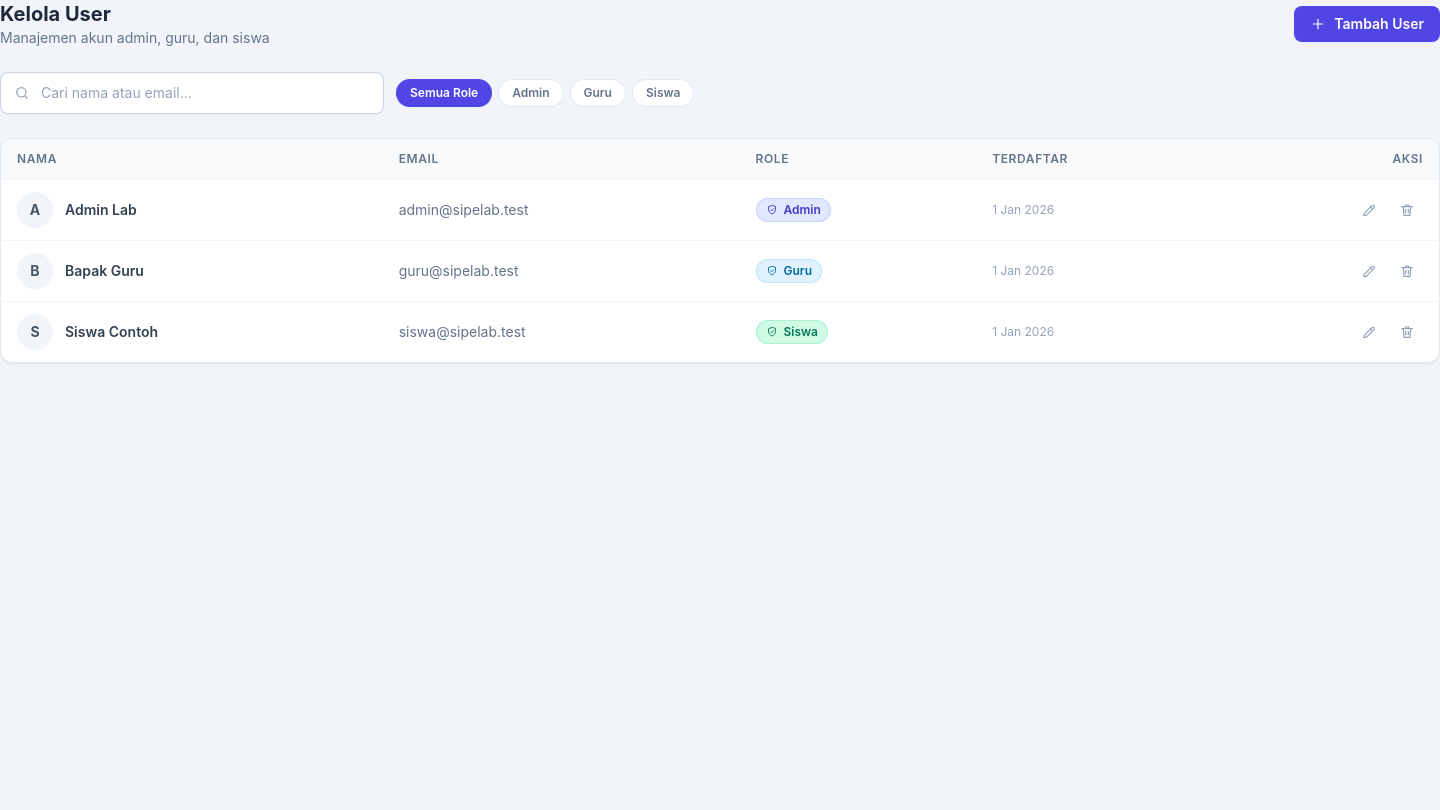
Scenario: Users — halaman manajemen user untuk admin › menutup modal dan menampilkan toast saat tambah user berhasil
Click the button "Tambah User".
click(1367, 24)  # box [1294,6,1439,42]
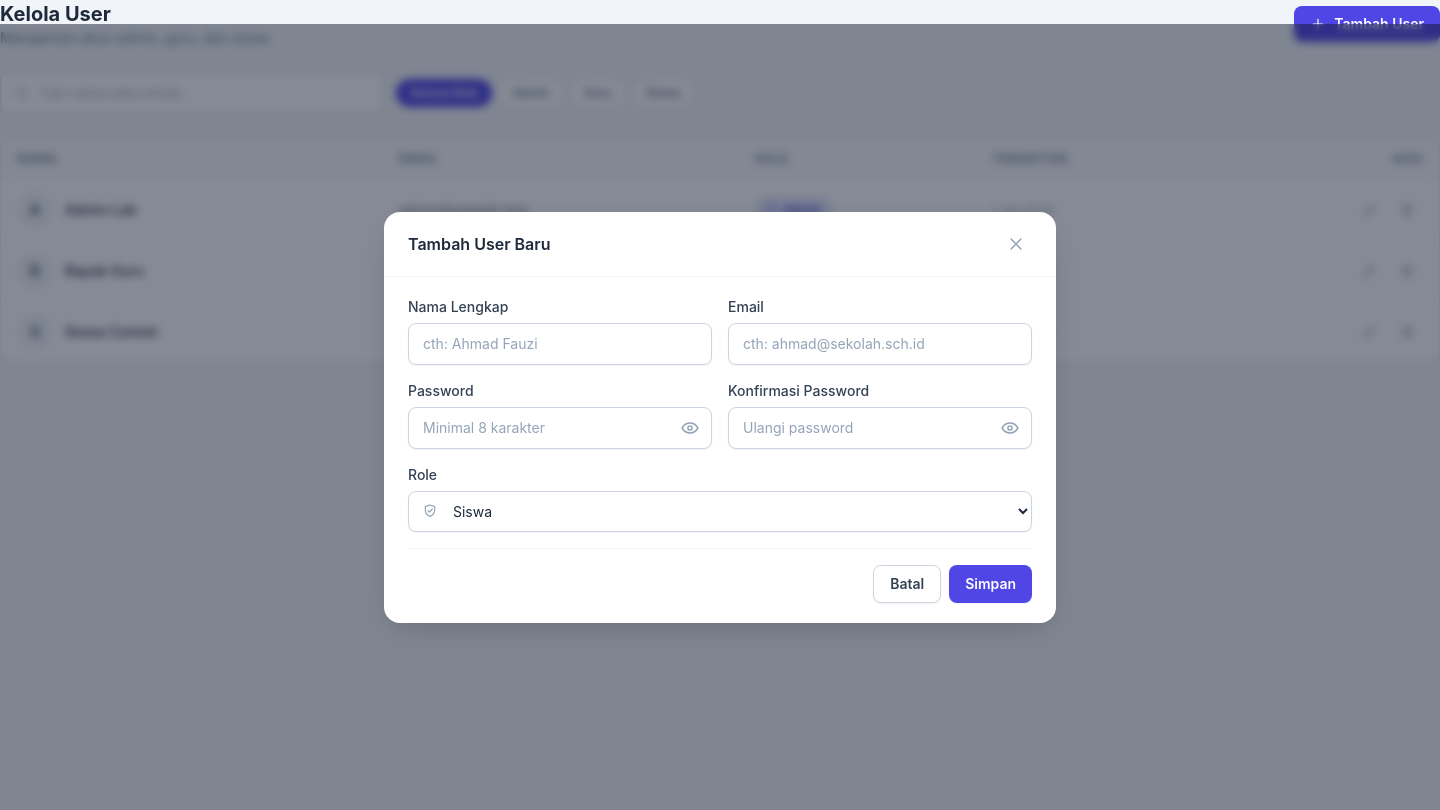
Type "User Baru" into the field labelled "Nama Lengkap".
click(560, 344); type("User Baru")  # box [408,322,712,364]
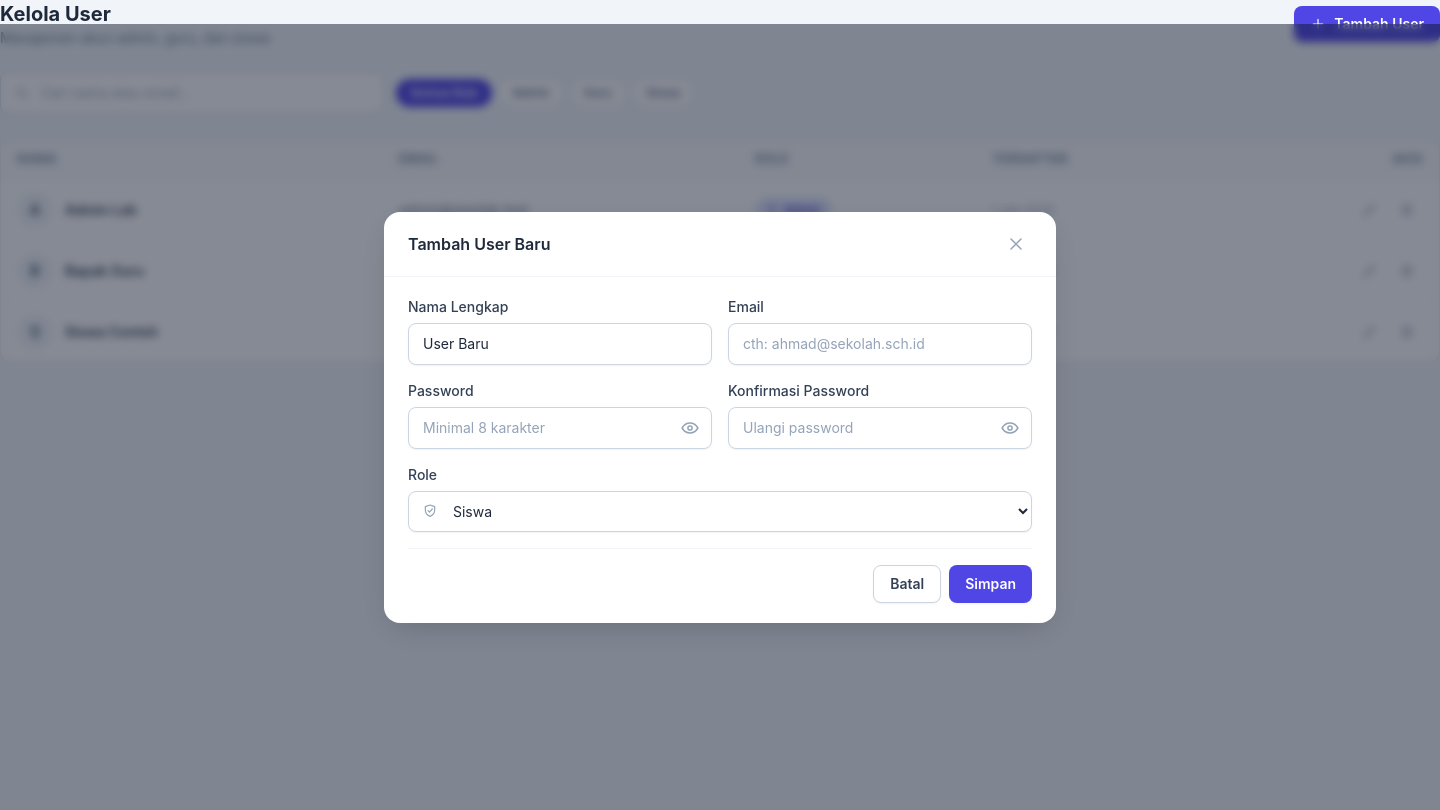
Type "baru@sipelab.test" into the field labelled "Email".
click(880, 344); type("baru@sipelab.test")  # box [728,322,1032,364]
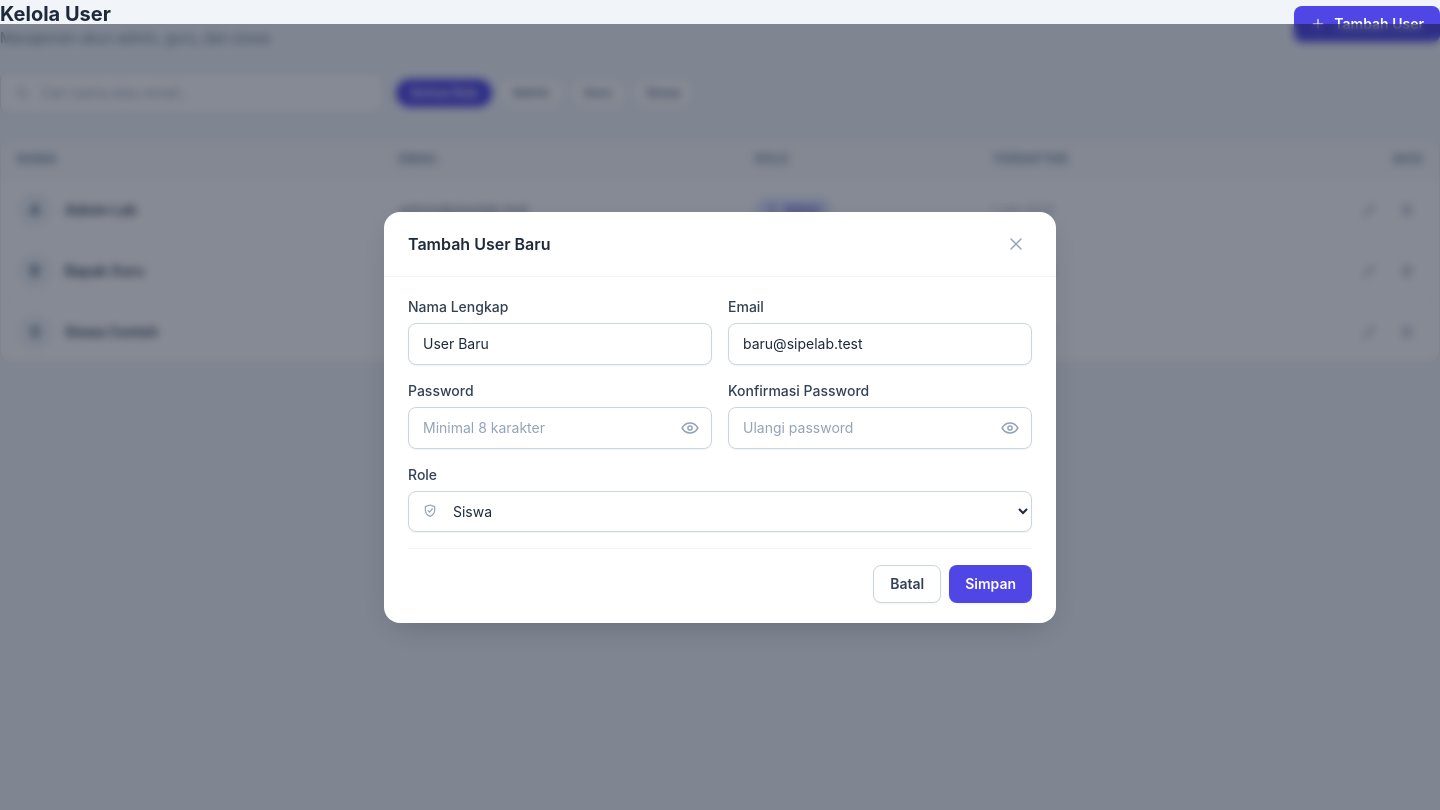
Type "password123" into the password field labelled "Password".
click(560, 428); type("password123")  # box [408,406,712,448]
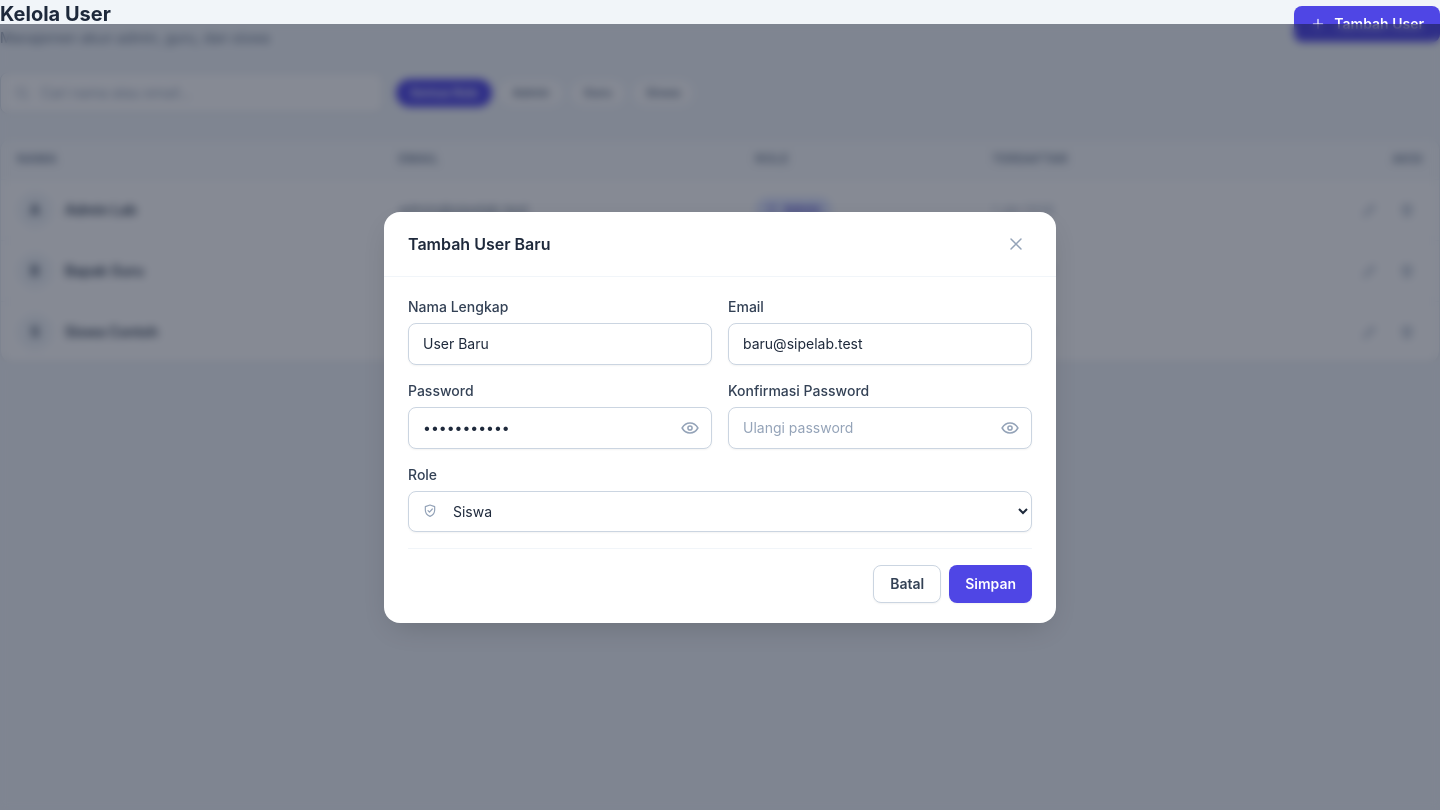
Type "password123" into the password field labelled "Konfirmasi Password".
click(880, 428); type("password123")  # box [728,406,1032,448]
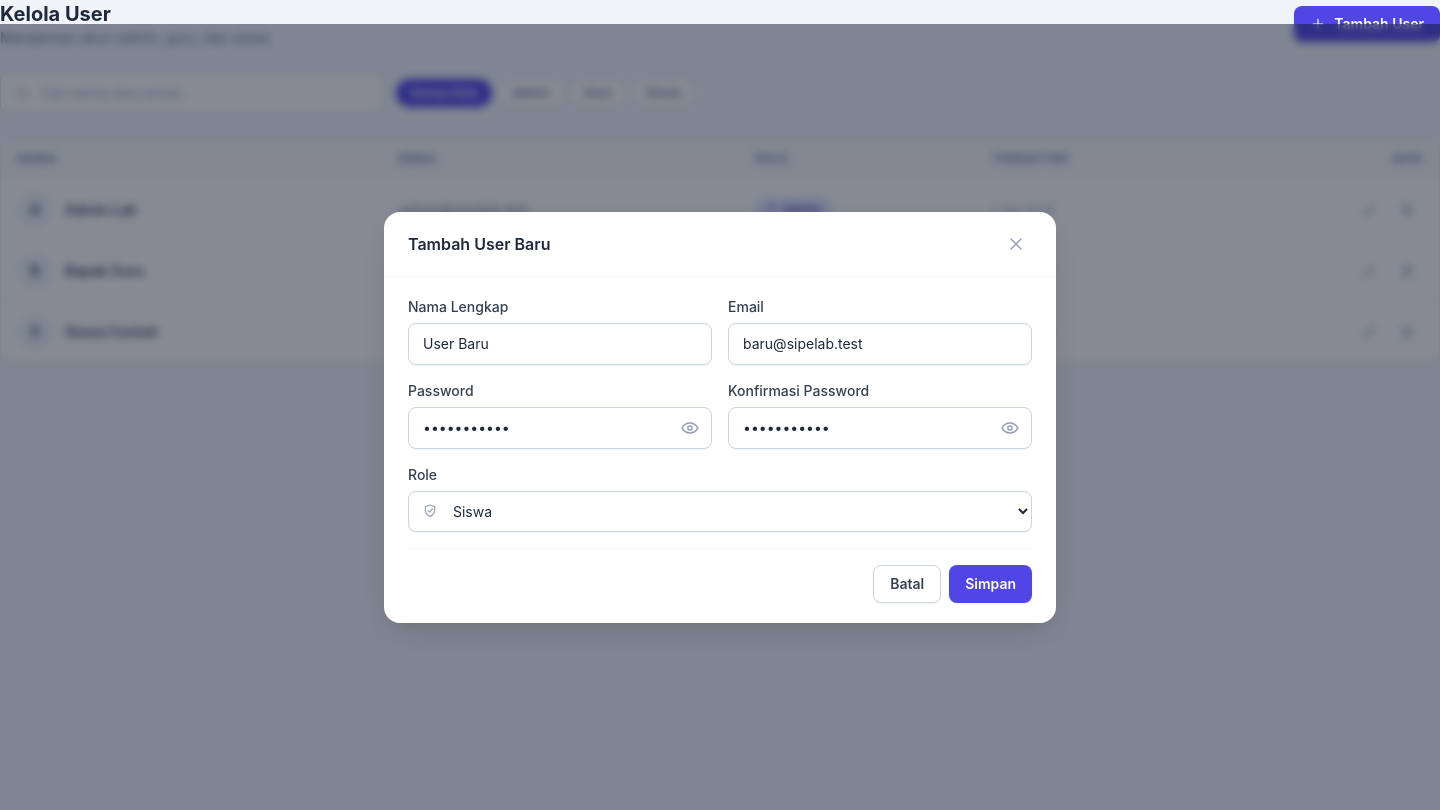
Click the button "Simpan".
click(991, 584)  # box [949,564,1032,602]
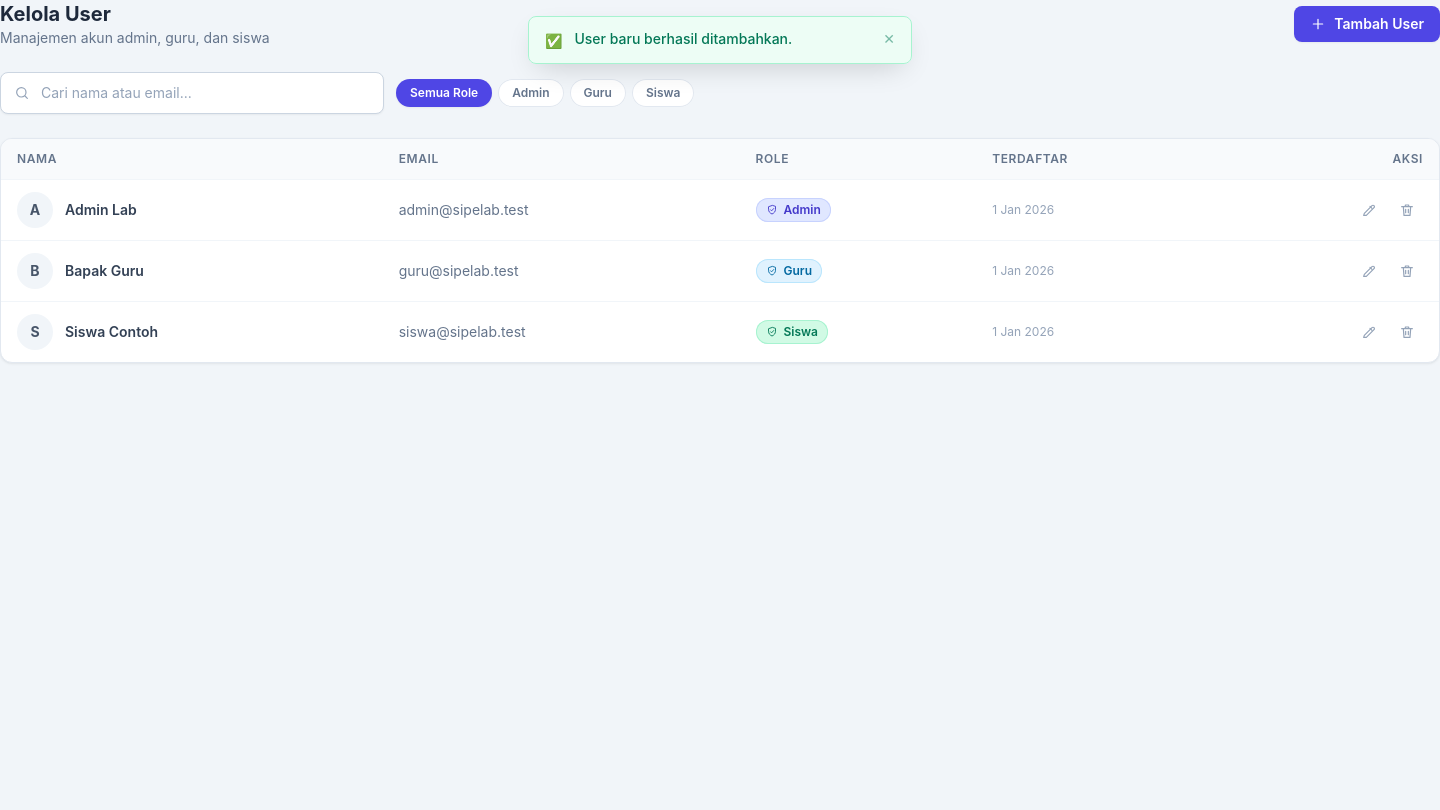
Expected: the text "User baru berhasil ditambahkan." is shown, [574,30,792,47]
Expected: the dialog is gone
